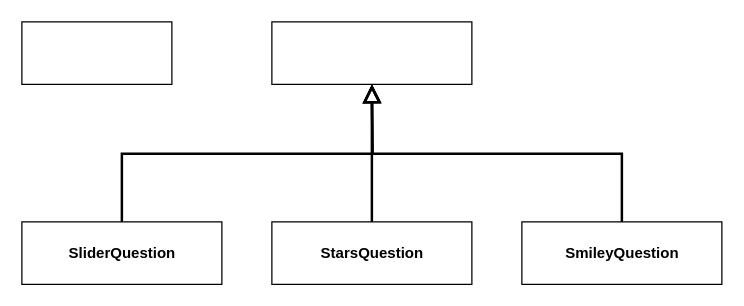
Image size: 744x306. Some labels were removed from this diagram. Here are the shapes that lost their labels. From the top down, the centre of each, then its label:
At [96,52]: "«enumeration» QuestionType".
At [371,52]: "«abstract» Question".
